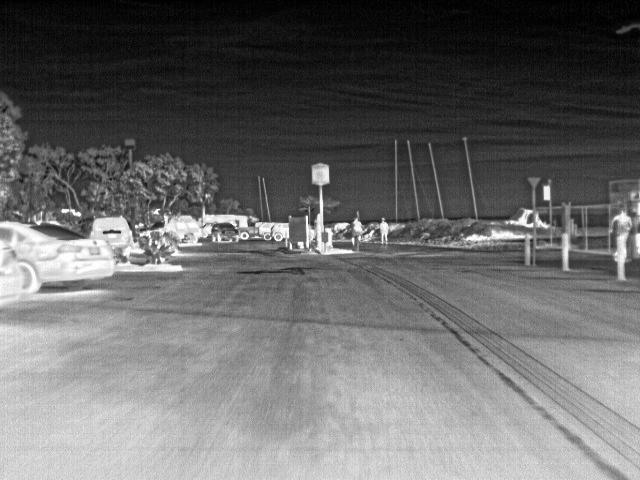car: (2, 221, 111, 297), (1, 245, 27, 312), (89, 214, 135, 248), (167, 214, 200, 234), (212, 221, 240, 242), (240, 218, 258, 240), (256, 221, 274, 240), (272, 222, 289, 242), (201, 216, 213, 235)
person: (614, 207, 634, 263), (349, 215, 367, 236), (378, 214, 389, 246)
